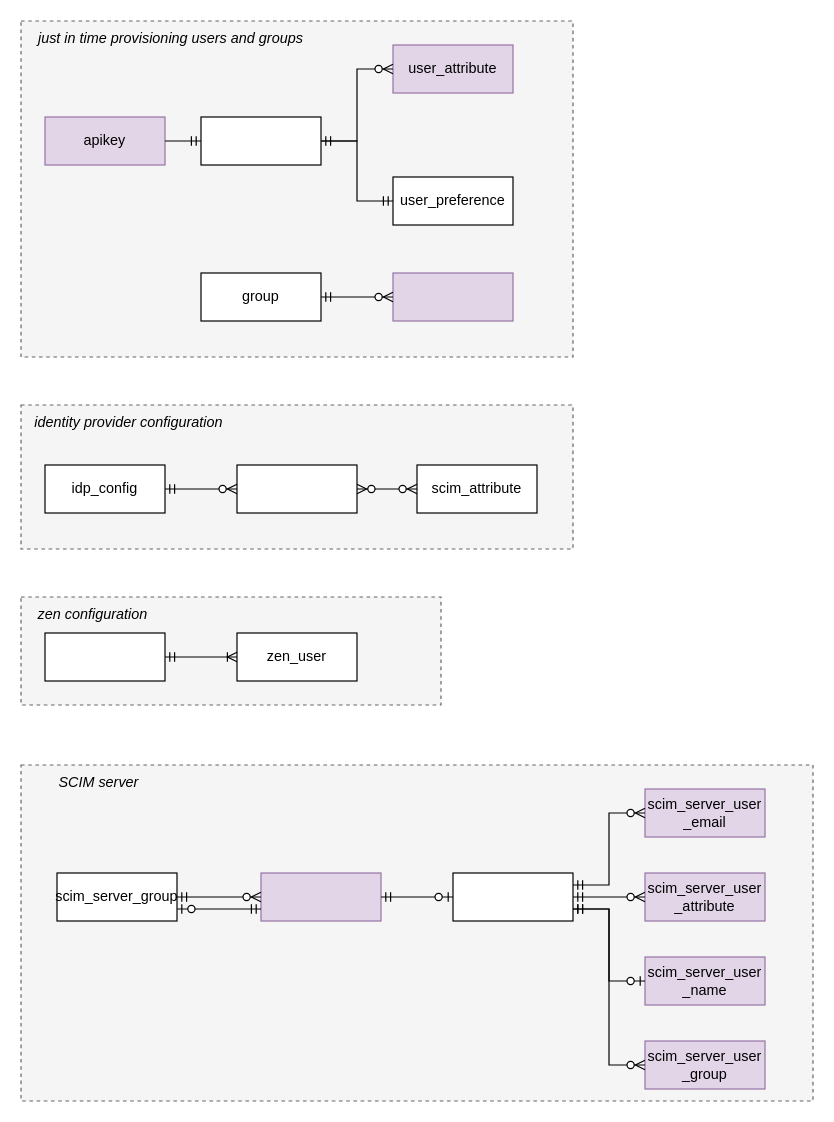
The diagram is 834 pixels wide and 1122 high, and some of its shapes have lost their labels. Each missing label, with the centre of its shape:
"group_member" goes at (x=452, y=296).
"scim_attr_mapping" goes at (x=296, y=488).
"scim_server_group _member" goes at (x=320, y=896).
"scim_server_user" goes at (x=512, y=896).
"user" goes at (x=260, y=140).
"zen_instance" goes at (x=104, y=656).
